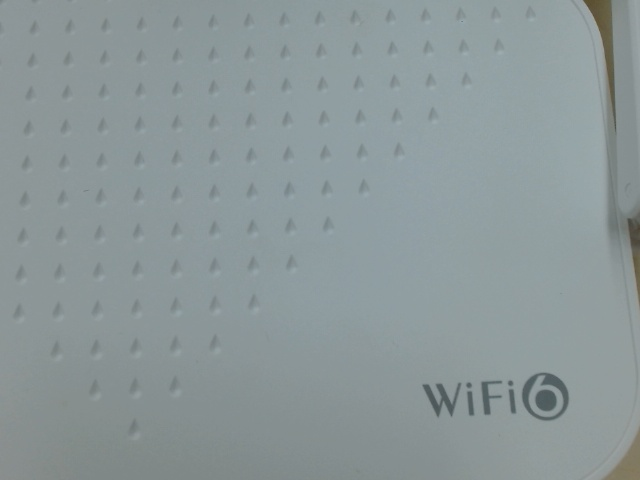AK_ZTEWIFI6: (410, 366, 577, 423)
